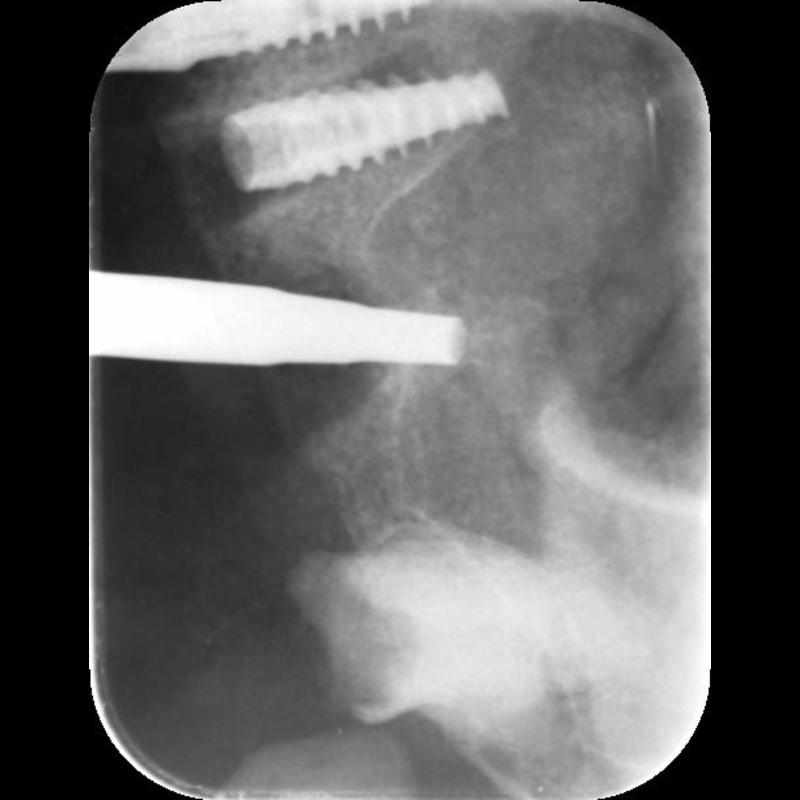ADIN: (222, 67, 510, 197)
